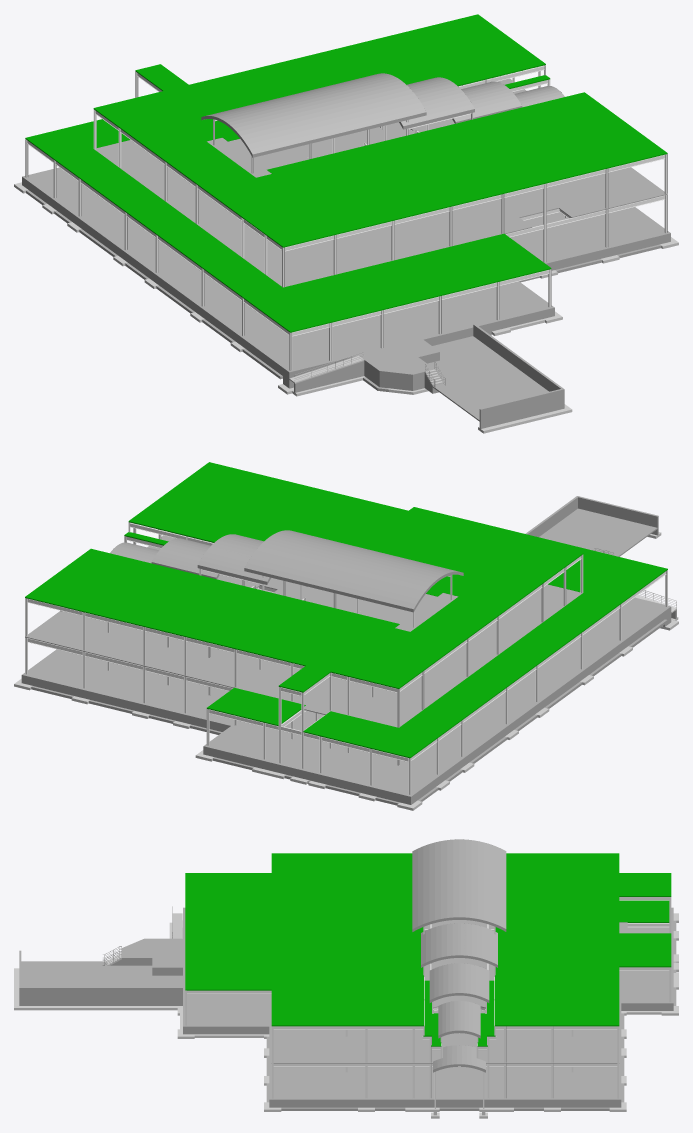
The picture shows the model from 3 angles, top to bottom: view 1: azimuth 30°, elevation 25°; view 2: azimuth 150°, elevation 25°; view 3: azimuth 270°, elevation 25°; orthographic projection. The views are drawn at different scales.
Visible parts, largest first — view 1: 22_kIllv127wWuzeSbBoPm, 2oJ$jhEMn3nhAqn0NbtYKu, 2XnCNfbvb5mfgxvK1MPFfM, 3yX498NoH6cAogvPd4Mk$Y, 0rgLSgKBf54Qc3od1vyY2Z, 1lGrrtZObD3BCuxBCd$E_H, 30URw5qYD7VfcU$zAl5afl, 0rgLSgKBf54Qc3od1vyYy9, 2lH_RQeBDBG8rH6PWO_5fC, 31f4fEYc5F6fw4dve_O20g, 0EBxs8wY934BfjQnQnJP9Z, 0rgLSgKBf54Qc3od1vyYzb (+7 smaller); view 2: 22_kIllv127wWuzeSbBoPm, 2XnCNfbvb5mfgxvK1MPFfM, 3yX498NoH6cAogvPd4Mk$Y, 2oJ$jhEMn3nhAqn0NbtYKu, 0rgLSgKBf54Qc3od1vyY2Z, 1lGrrtZObD3BCuxBCd$E_H, 30URw5qYD7VfcU$zAl5afl, 3saVcraO9CJRqkF0xoe8dT, 3saVcraO9CJRqkF0xoe8zy, 0rgLSgKBf54Qc3od1vyYy9, 0VsgkmPnbAuO2d6$Acv6Id, 0EBxs8wY934BfjQnQnJP9Z (+6 smaller); view 3: 22_kIllv127wWuzeSbBoPm, 2XnCNfbvb5mfgxvK1MPFfM, 2oJ$jhEMn3nhAqn0NbtYKu, 3yX498NoH6cAogvPd4Mk$Y, 0rgLSgKBf54Qc3od1vyY2Z, 1lGrrtZObD3BCuxBCd$E_H, 3saVcraO9CJRqkF0xoe8_j, 31f4fEYc5F6fw4dve_O27F, 0rgLSgKBf54Qc3od1vyYy9, 0rgLSgKBf54Qc3od1vyYzb, 0VsgkmPnbAuO2d6$Acv6Id, 2lH_RQeBDBG8rH6PWO_5fC (+7 smaller).
Part boxes in pixels (x1,y1,x2,y2): 22_kIllv127wWuzeSbBoPm: (93,14,667,247); 2oJ$jhEMn3nhAqn0NbtYKu: (25,119,551,332); 2XnCNfbvb5mfgxvK1MPFfM: (26,122,667,370); 3yX498NoH6cAogvPd4Mk$Y: (94,75,667,287); 0rgLSgKBf54Qc3od1vyY2Z: (201,73,426,157); 1lGrrtZObD3BCuxBCd$E_H: (427,336,548,421); 30URw5qYD7VfcU$zAl5afl: (22,176,284,375); 0rgLSgKBf54Qc3od1vyYy9: (399,77,474,129); 2lH_RQeBDBG8rH6PWO_5fC: (359,339,439,375); 31f4fEYc5F6fw4dve_O20g: (479,389,562,428); 0EBxs8wY934BfjQnQnJP9Z: (207,137,309,177); 0rgLSgKBf54Qc3od1vyYzb: (452,81,522,123); 22_kIllv127wWuzeSbBoPm: (25,462,583,692); 2XnCNfbvb5mfgxvK1MPFfM: (25,589,666,795); 3yX498NoH6cAogvPd4Mk$Y: (25,532,581,727); 2oJ$jhEMn3nhAqn0NbtYKu: (303,507,667,758); 0rgLSgKBf54Qc3od1vyY2Z: (244,530,463,612); 1lGrrtZObD3BCuxBCd$E_H: (539,508,657,556); 30URw5qYD7VfcU$zAl5afl: (409,610,664,804); 3saVcraO9CJRqkF0xoe8dT: (203,745,409,804); 3saVcraO9CJRqkF0xoe8zy: (21,674,231,731); 0rgLSgKBf54Qc3od1vyYy9: (197,534,270,584); 0VsgkmPnbAuO2d6$Acv6Id: (206,687,305,726); 0EBxs8wY934BfjQnQnJP9Z: (358,593,458,631); 22_kIllv127wWuzeSbBoPm: (271,853,671,1026); 2XnCNfbvb5mfgxvK1MPFfM: (185,909,669,1098); 2oJ$jhEMn3nhAqn0NbtYKu: (185,873,671,990); 3yX498NoH6cAogvPd4Mk$Y: (271,920,627,1063); 0rgLSgKBf54Qc3od1vyY2Z: (412,839,506,931); 1lGrrtZObD3BCuxBCd$E_H: (21,961,182,987); 3saVcraO9CJRqkF0xoe8_j: (269,1098,619,1107); 31f4fEYc5F6fw4dve_O27F: (19,987,182,1005); 0rgLSgKBf54Qc3od1vyYy9: (421,923,497,967); 0rgLSgKBf54Qc3od1vyYzb: (429,963,489,1002); 0VsgkmPnbAuO2d6$Acv6Id: (619,933,671,967); 2lH_RQeBDBG8rH6PWO_5fC: (122,938,182,968).
Size of the model in its own units: 55.69 by 16.02 by 77.1.
